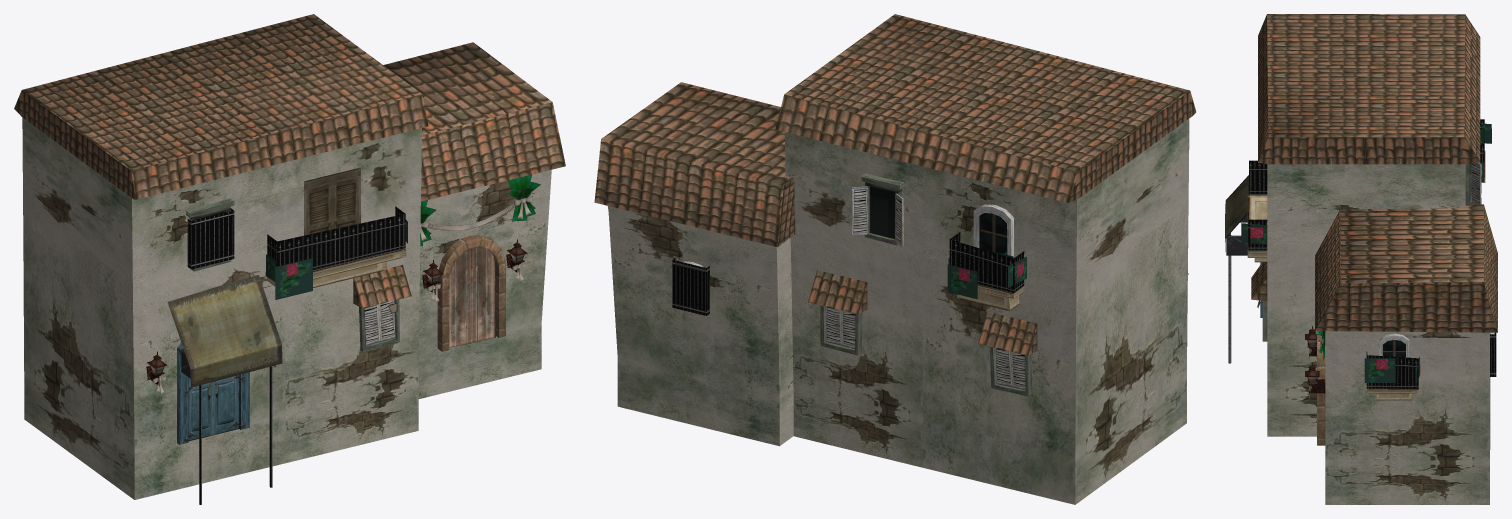
The model's file is spanish_npc_house_c_exterior.fbx.
3 views of the same model, side by side, from view 1: azimuth 30°, elevation 25°; view 2: azimuth 150°, elevation 25°; view 3: azimuth 270°, elevation 25° (orthographic). The views are drawn at different scales.
Visible parts, largest first — view 1: building_shell, Roof01, Roof_B1, windows_roof5, railing_flip11.001, closed_door, door_frame_2, window_bars1, door_right_2, door_left_2, windows_roof2, windows_roof (+8 smaller); view 2: building_shell, Roof01, Roof_B1, railing_front1, window_035, windows_roof3, windows_roof4, window_bars, window_034, window_033, Window2, Window1 (+2 smaller); view 3: building_shell, Roof01, Roof_B1, railing_front1.002, railing_flip11.001, windows_roof5, door_frame_2, pCube1, pPlane3.003, windows_roof, polySurface9, pCube3 (+3 smaller).
Boxes of the visible parts, <box> form: building_shell: <box>22,117,551,499</box>; Roof01: <box>14,14,428,199</box>; Roof_B1: <box>383,42,565,201</box>; windows_roof5: <box>167,275,281,385</box>; railing_flip11.001: <box>277,214,405,271</box>; closed_door: <box>304,167,360,235</box>; door_frame_2: <box>437,234,505,351</box>; window_bars1: <box>187,208,234,269</box>; door_right_2: <box>472,247,495,342</box>; door_left_2: <box>449,249,471,347</box>; windows_roof2: <box>190,344,282,387</box>; windows_roof: <box>353,265,411,308</box>; building_shell: <box>607,119,1189,504</box>; Roof01: <box>775,14,1196,202</box>; Roof_B1: <box>594,82,795,246</box>; railing_front1: <box>949,232,1024,293</box>; window_035: <box>861,173,904,245</box>; windows_roof3: <box>978,311,1037,355</box>; windows_roof4: <box>808,270,867,314</box>; window_bars: <box>672,257,709,315</box>; window_034: <box>820,305,862,355</box>; window_033: <box>989,346,1032,396</box>; Window2: <box>979,213,1007,254</box>; Window1: <box>973,204,1014,257</box>; building_shell: <box>1267,57,1490,504</box>; Roof01: <box>1258,14,1480,164</box>; Roof_B1: <box>1315,204,1497,332</box>; railing_front1.002: <box>1366,351,1418,389</box>; railing_flip11.001: <box>1248,160,1267,251</box>; windows_roof5: <box>1225,175,1248,238</box>; door_frame_2: <box>1317,334,1325,445</box>; pCube1: <box>1247,195,1267,257</box>; pPlane3.003: <box>1364,358,1395,382</box>; windows_roof: <box>1251,262,1267,300</box>; polySurface9: <box>1471,163,1481,204</box>; pCube3: <box>1228,235,1231,363</box>.
Size of the model in its own units: 5315 by 3586 by 2942.
Materials: 4 (4 with a texture image).
